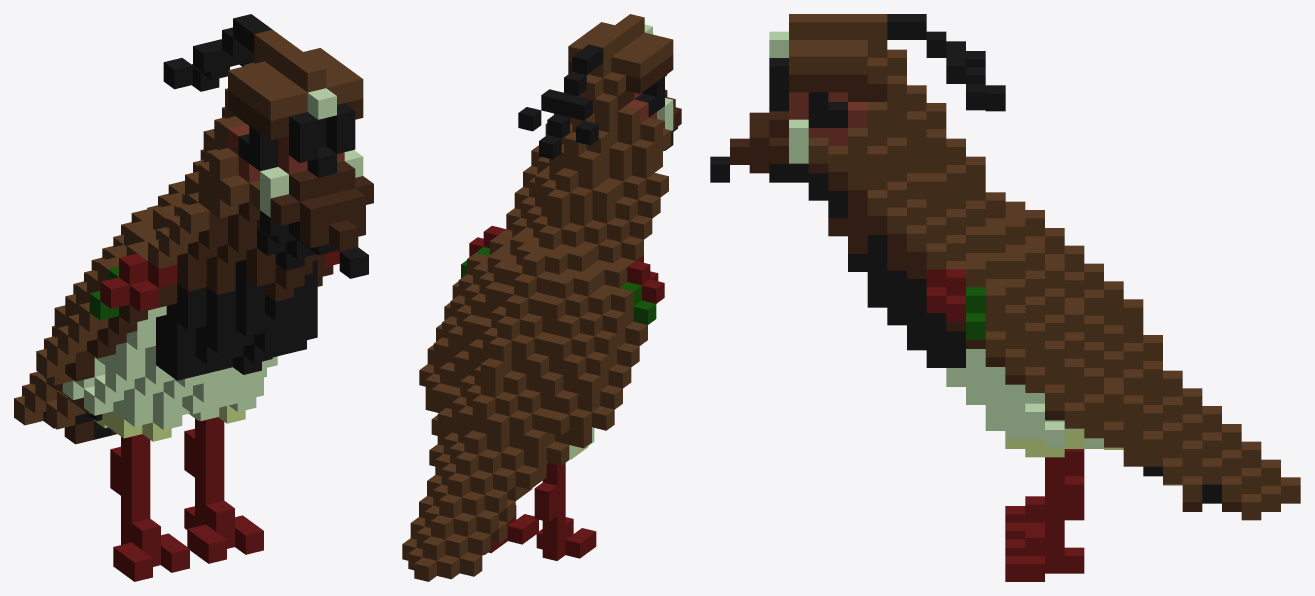
The model's file is Boss_Boss_Alcatraz_fase_1.obj.
3 renders of one model, left to right at view 1: azimuth 30°, elevation 25°; view 2: azimuth 150°, elevation 25°; view 3: azimuth 270°, elevation 25°, orthographic. The views are drawn at different scales.
Parts seen in each view (by area): view 1: Boss_Boss_Alcatraz_fase_1; view 2: Boss_Boss_Alcatraz_fase_1; view 3: Boss_Boss_Alcatraz_fase_1.
Part boxes in pixels (x1,y1,x2,y2): Boss_Boss_Alcatraz_fase_1: [14, 14, 373, 581]; Boss_Boss_Alcatraz_fase_1: [402, 14, 681, 581]; Boss_Boss_Alcatraz_fase_1: [710, 14, 1300, 581].
Size of the model in its own units: 13 by 30 by 30.
1 material, 1 textured.
